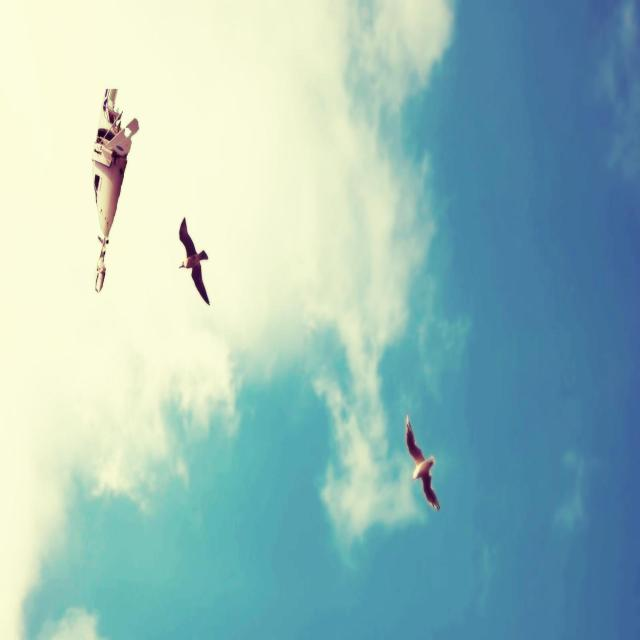airplane: (92, 86, 140, 292)
